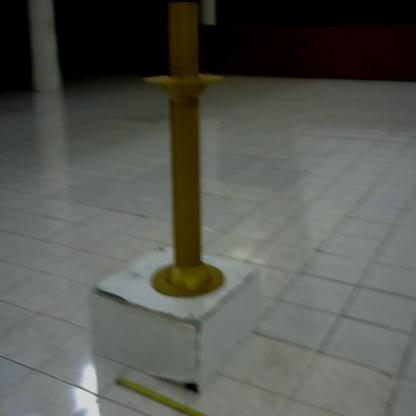pole: (140, 1, 233, 310)
